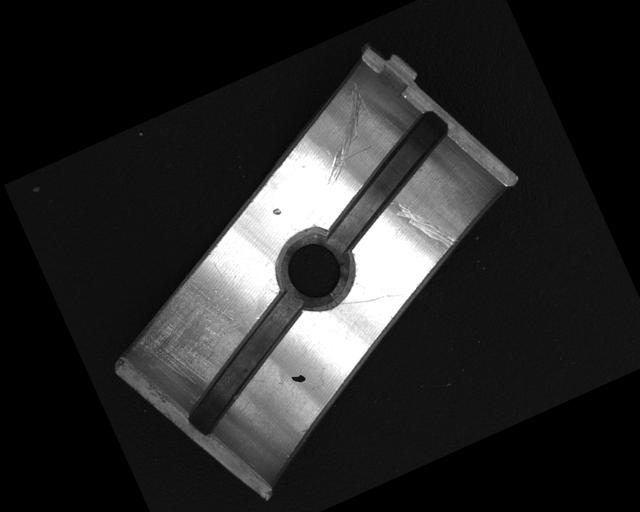blot: (290, 370, 307, 386)
bruise: (271, 206, 283, 218)
gap: (156, 290, 333, 440), (299, 107, 478, 253)
hole: (265, 220, 366, 323)
nick: (291, 79, 391, 187), (389, 183, 459, 263), (339, 273, 415, 322)
scratch: (109, 257, 256, 405)
